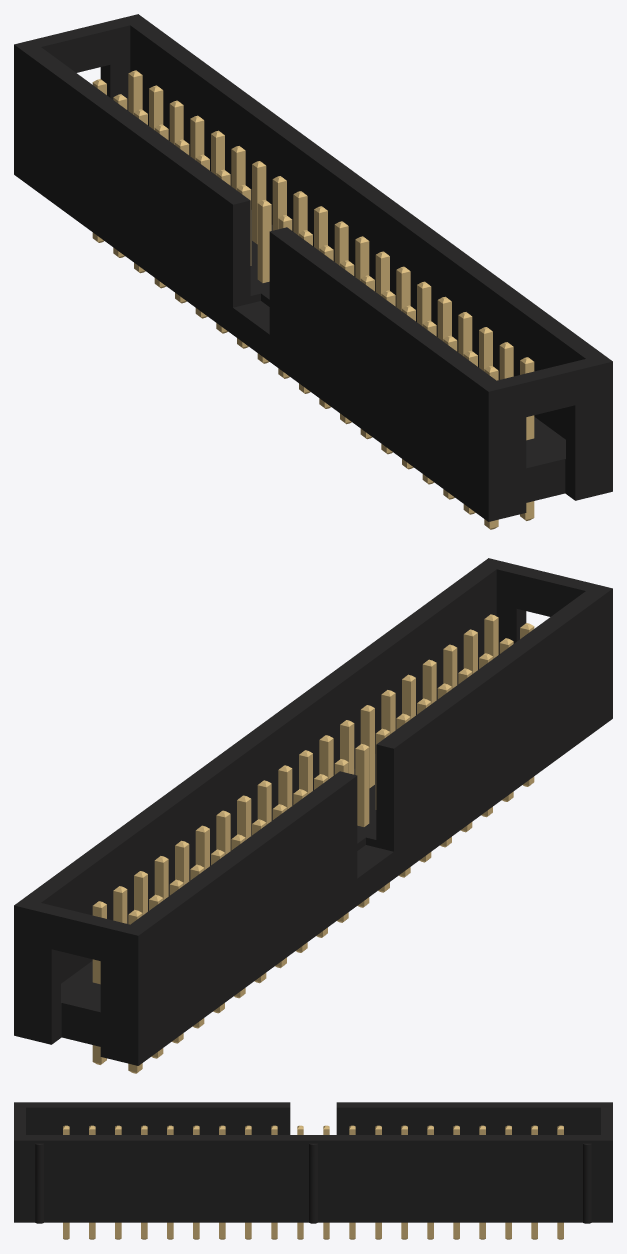
File: kc-idc-header_2x20_p2.54mm_vertical.glb
The picture shows the model from 3 angles, top to bottom: view 1: azimuth 30°, elevation 25°; view 2: azimuth 150°, elevation 25°; view 3: azimuth 270°, elevation 25°; orthographic projection. The views are drawn at different scales.
Visible parts, largest first — view 1: 0_0_0_0, 0.75_0.5_0.25_0.9; view 2: 0_0_0_0, 0.75_0.5_0.25_0.9; view 3: 0_0_0_0, 0.75_0.5_0.25_0.9.
Part boxes in pixels (box(x1,y1,x2,y2)): 0_0_0_0: box(14, 14, 612, 521); 0.75_0.5_0.25_0.9: box(92, 70, 534, 529); 0_0_0_0: box(14, 558, 612, 1065); 0.75_0.5_0.25_0.9: box(92, 614, 534, 1073); 0_0_0_0: box(14, 1102, 612, 1223); 0.75_0.5_0.25_0.9: box(63, 1125, 563, 1239).
Bounding box in the file's own units: 0.9099 × 1.21 × 5.85.
